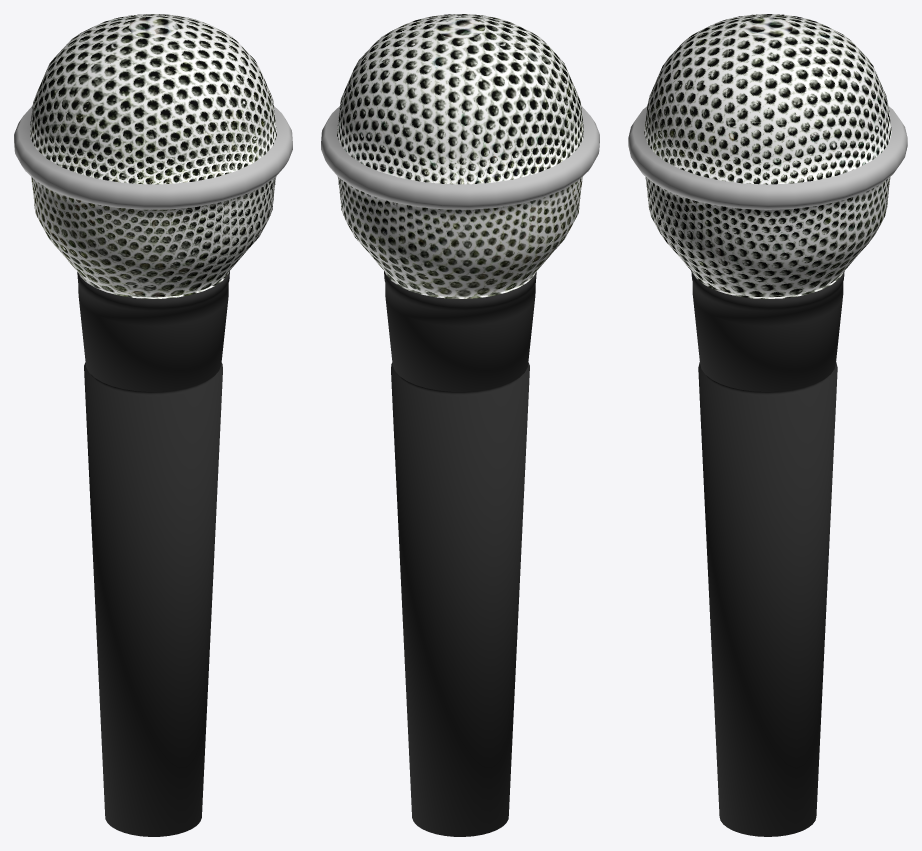
File: microphone.fbx
3 views of the same model, side by side, from view 1: azimuth 30°, elevation 25°; view 2: azimuth 150°, elevation 25°; view 3: azimuth 270°, elevation 25° (orthographic).
Visible parts, largest first — view 1: Cylinder; view 2: Cylinder; view 3: Cylinder.
Part boxes in pixels (x1,y1,x2,y2): Cylinder: (14, 14, 292, 836); Cylinder: (321, 14, 599, 836); Cylinder: (628, 14, 907, 836).
Bounding box in the file's own units: 71.85 × 224 × 71.85.
